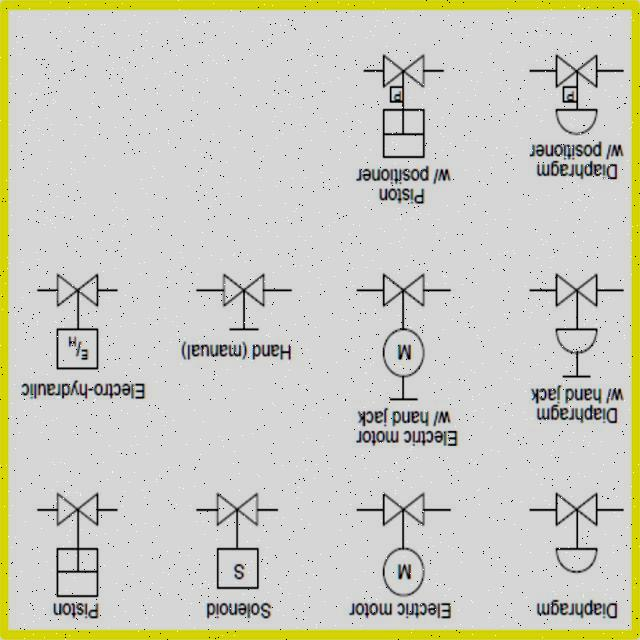Electric operator gate valve: (45, 262, 108, 374)
Hand Operated Gate Valve: (213, 260, 279, 342)
Motor Operated Gate Valve: (370, 483, 445, 598), (374, 260, 444, 379)
Pneumatic-Diaphragm Gate Valve: (540, 483, 618, 585), (552, 264, 607, 356)
Rotary Piston-Pneumatic Gate Valve: (44, 474, 107, 598)
Solenoid Operated Gate Valve: (200, 484, 268, 589)
